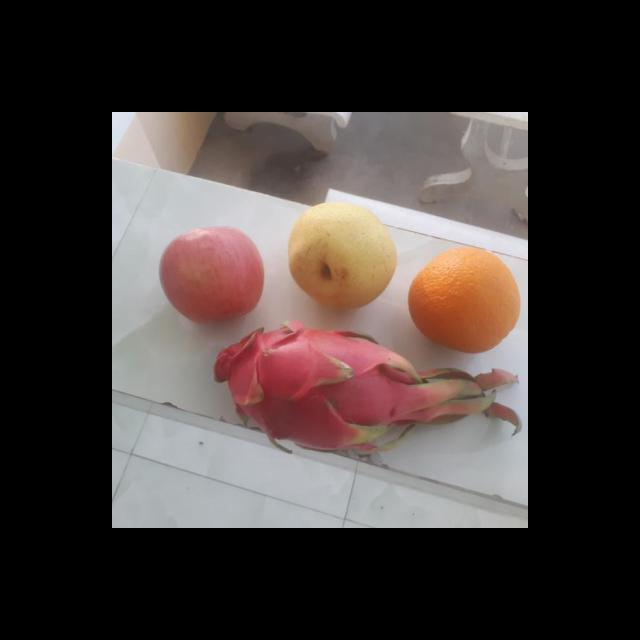apple: (156, 226, 264, 322)
orange: (406, 247, 520, 355)
pear: (283, 202, 399, 306)
pitaya: (205, 318, 419, 436)
